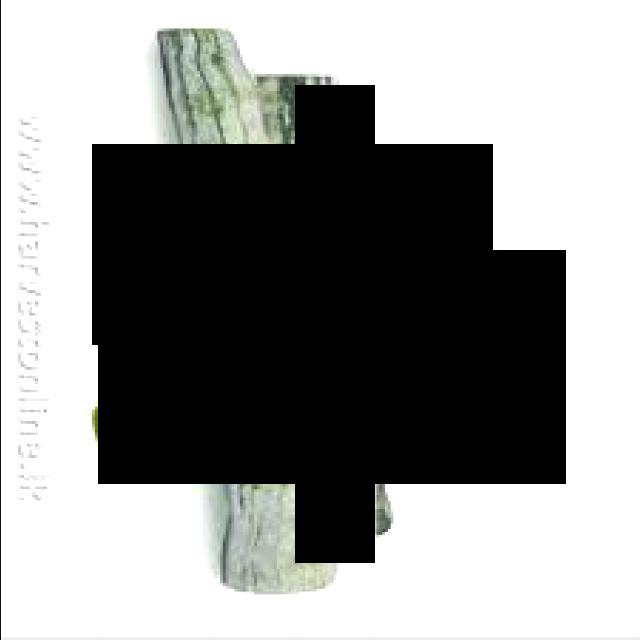Snake_Gourd: (98, 250, 566, 484), (92, 146, 493, 345), (295, 86, 375, 564)
